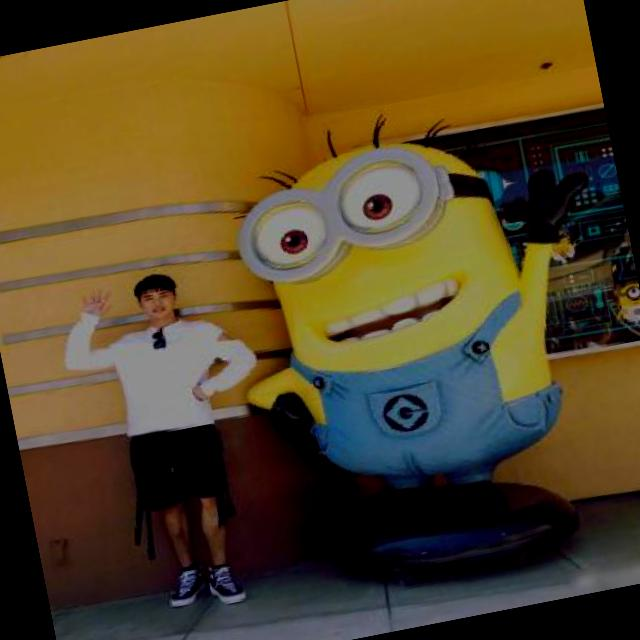Person: (29, 238, 302, 637)
